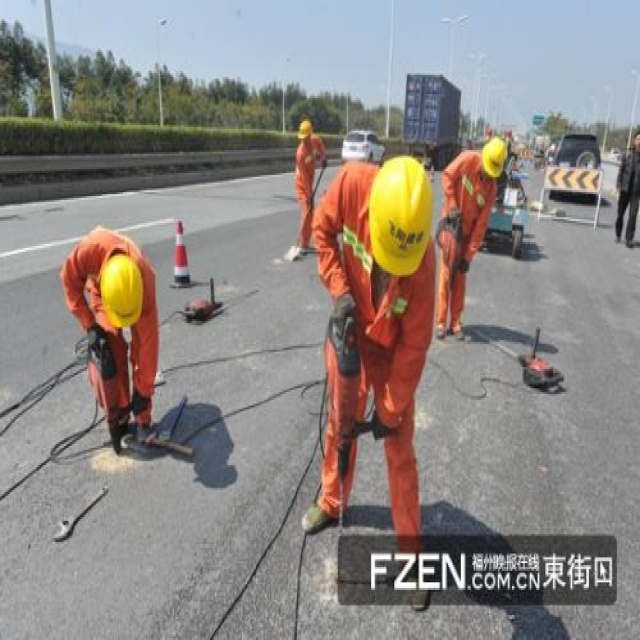Helmet: (360, 140, 439, 291), (92, 249, 156, 340), (472, 128, 520, 193), (290, 114, 322, 153)
